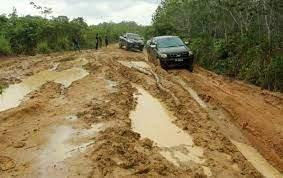Pothole: (99, 46, 207, 178), (178, 72, 283, 178), (0, 49, 101, 128)
